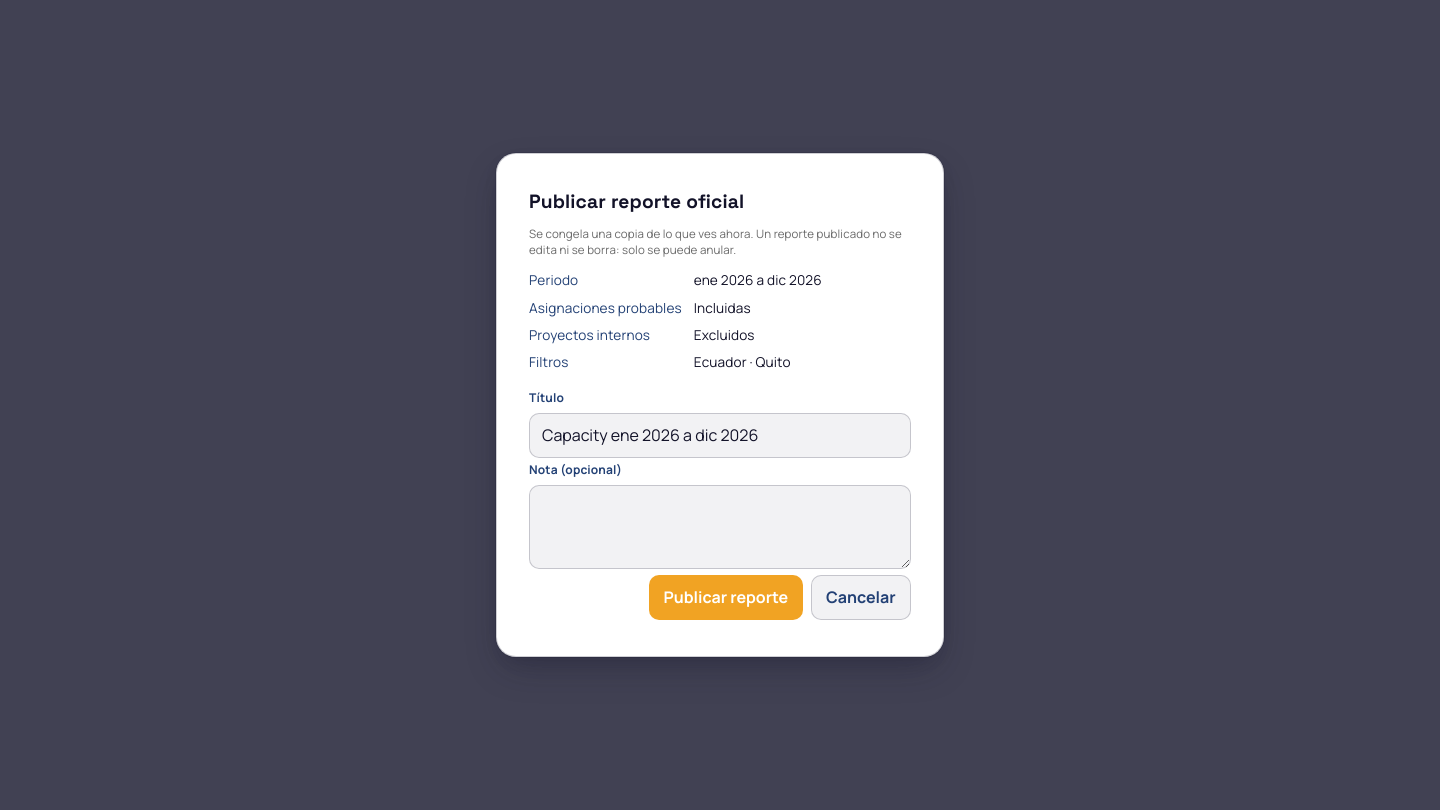
PublishReportDialog › si el servidor falla muestra el error y deja el diálogo abierto
Click the button "Publicar reporte": [726, 597] box [649, 575, 803, 620]
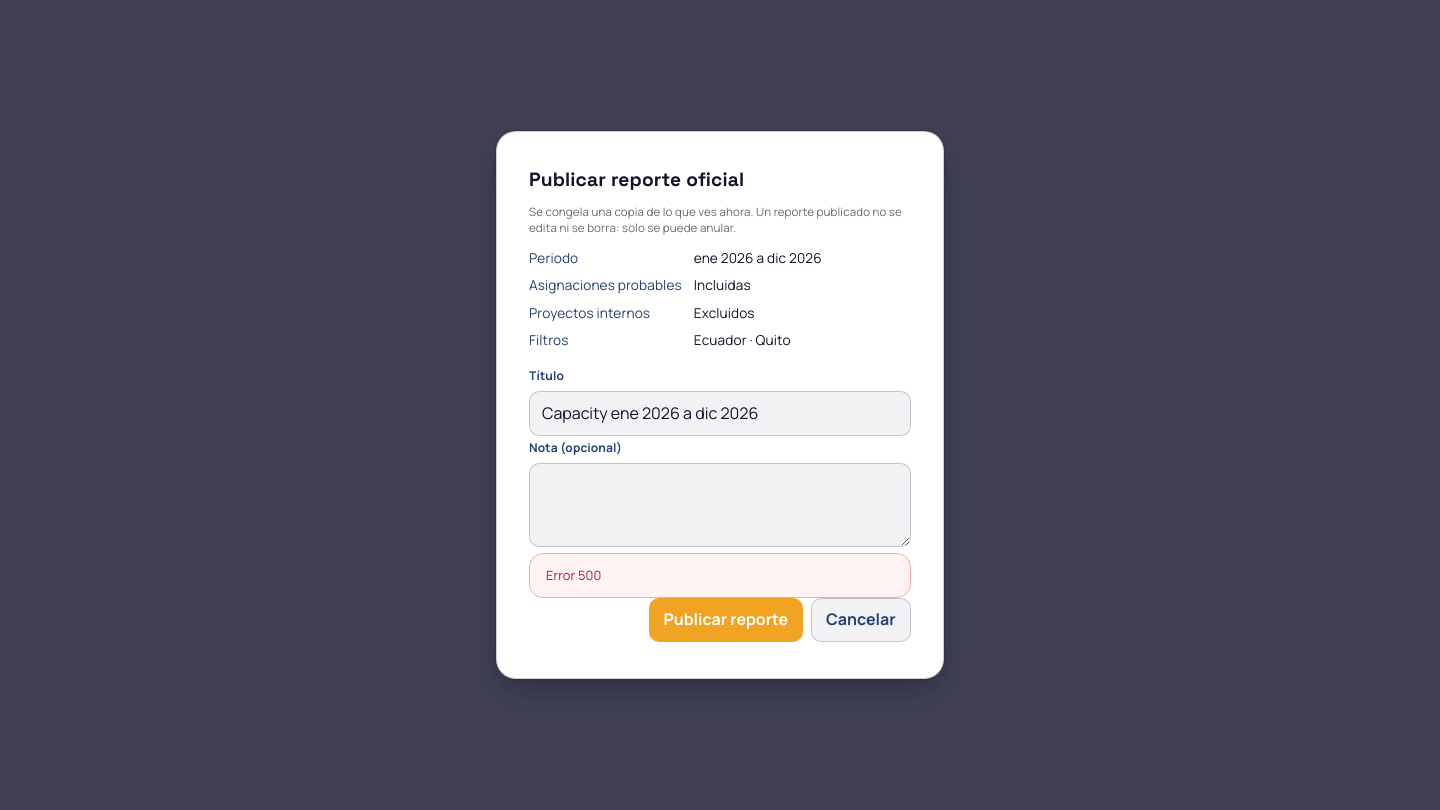
Expected: the text "Error 500" is shown, [546, 566, 601, 584]
